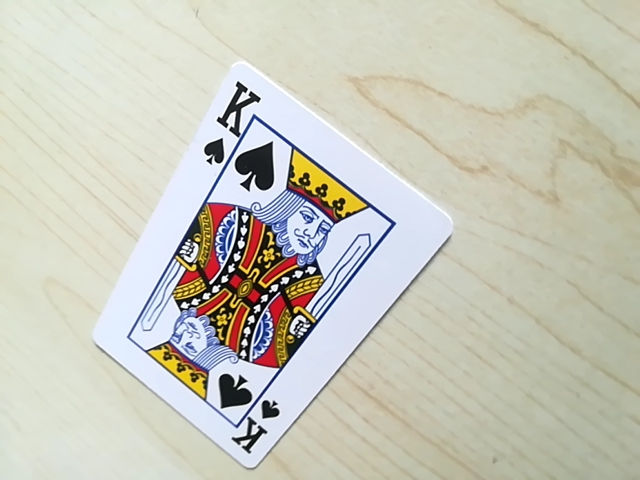ht k: (200, 68, 268, 183), (223, 390, 284, 462)
